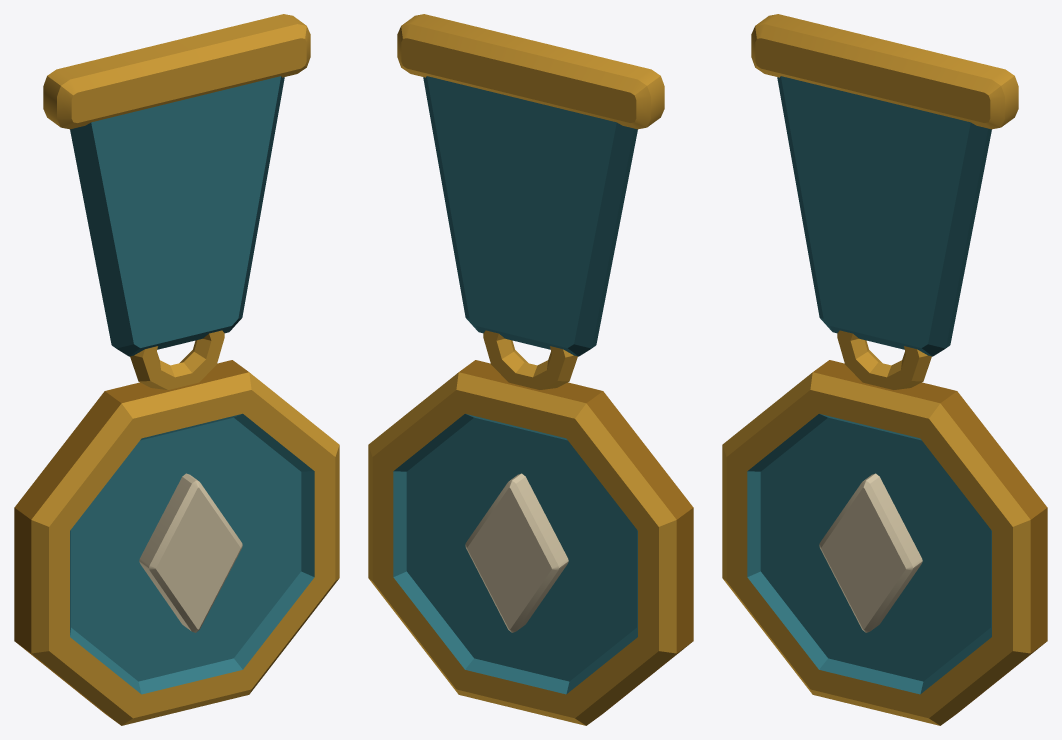
The model's file is Medal_07.glb.
The picture shows the model from 3 angles, left to right: view 1: azimuth 30°, elevation 25°; view 2: azimuth 150°, elevation 25°; view 3: azimuth 330°, elevation 25°; orthographic projection.
Visible parts, largest first — view 1: Medal_07; view 2: Medal_07; view 3: Medal_07.
Part boxes in pixels (x1,y1,x2,y2): Medal_07: (14,14,339,725); Medal_07: (368,14,693,725); Medal_07: (722,14,1047,725).
Bounding box in the file's own units: 1.16 × 2.37 × 0.28.
